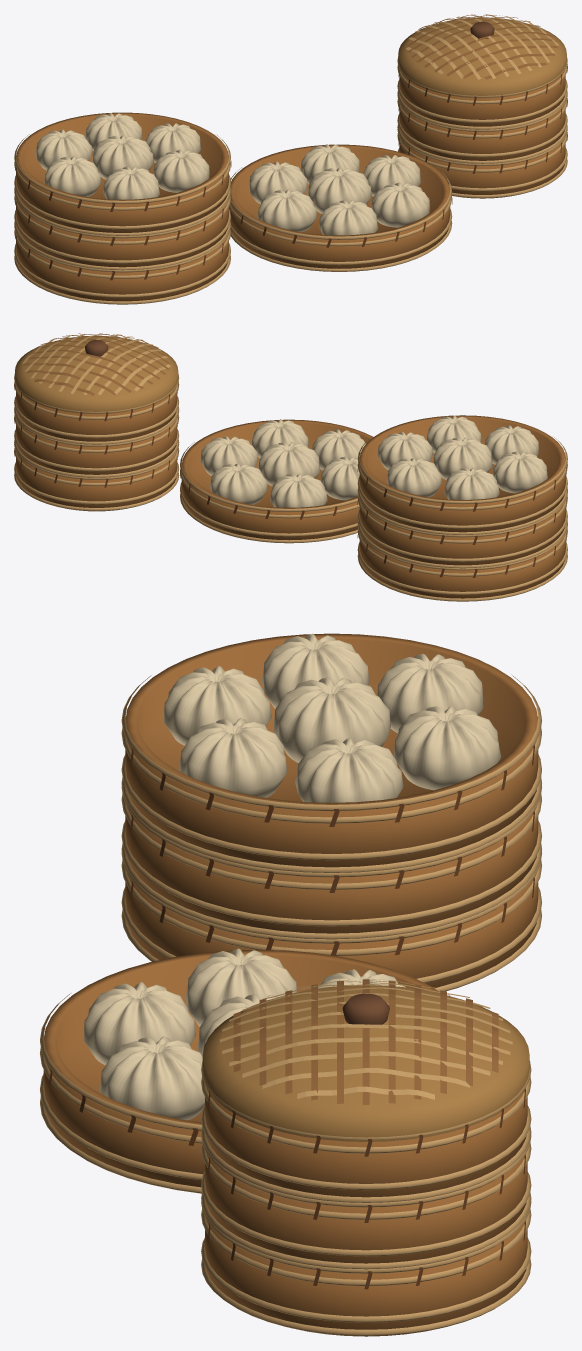
The model's file is steamers.glb.
3 renders of one model, top to bottom at view 1: azimuth 30°, elevation 25°; view 2: azimuth 150°, elevation 25°; view 3: azimuth 270°, elevation 25°, orthographic. The views are drawn at different scales.
Parts seen in each view (by area): view 1: Morning steamers; view 2: Morning steamers; view 3: Morning steamers.
Boxes of the visible parts, x1,y1,x2,y2 form: Morning steamers: (14,14,567,304); Morning steamers: (14,333,567,601); Morning steamers: (40,633,541,1336).
Bounding box in the file's own units: 2.8 × 0.695 × 1.17.
